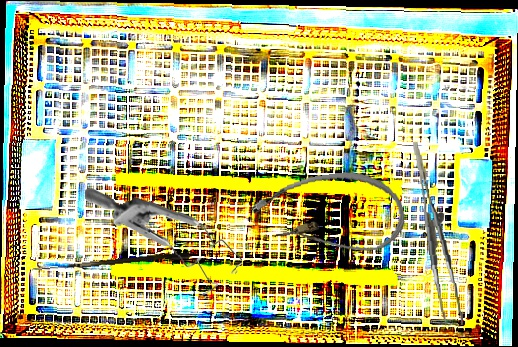Cannula: (248, 164, 409, 267)
Hook Surgical: (32, 249, 190, 278)
Speculum: (85, 182, 243, 300)
Tissue Forceps: (412, 139, 464, 328)
